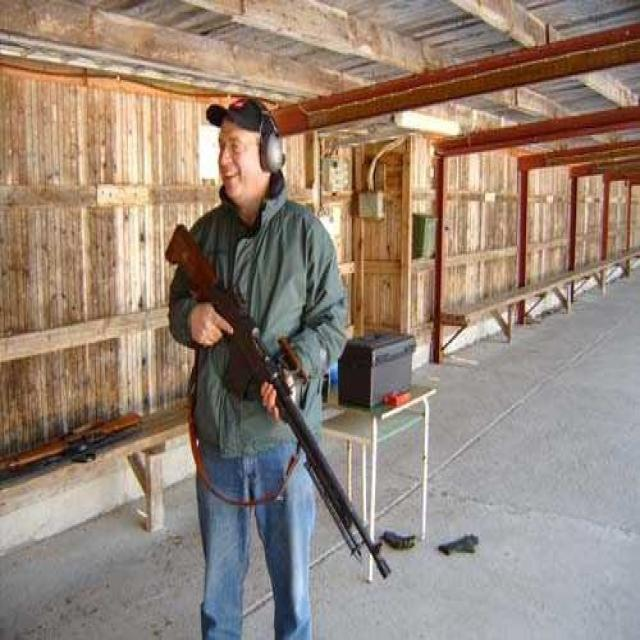heavyweapon: (162, 209, 434, 609)
